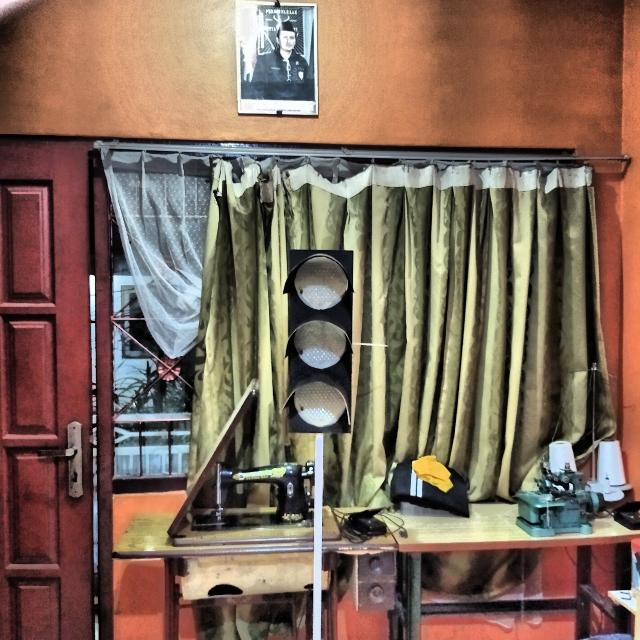yellow: (288, 250, 351, 437)
